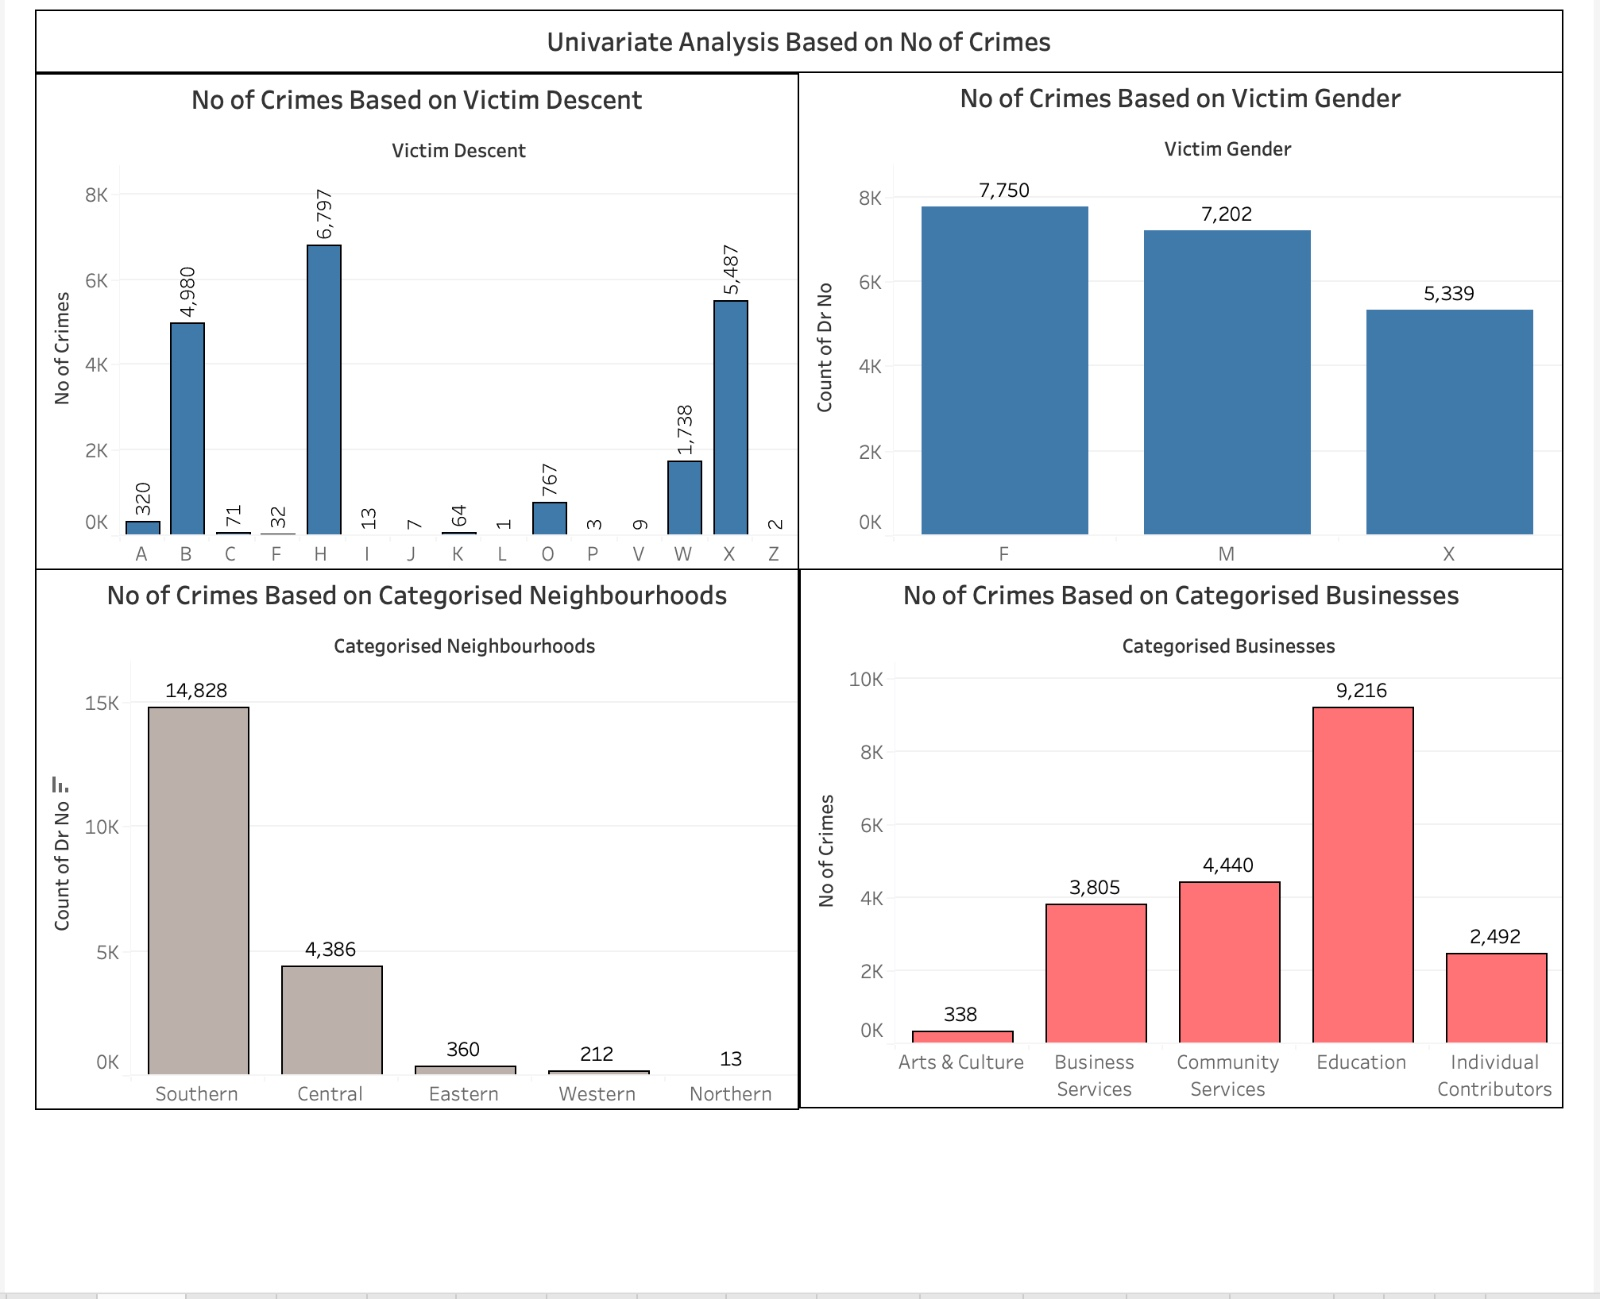

Layout of this report page (visuals, bound fields, positions):
{"tool":"tableau","page":{"name":"DB1","canvas":[1000,1000],"ordinal":0},"visuals":[{"type":"title","box":[19,6,962,40]},{"type":"worksheet","title":"Sheet 2","mark":"Automatic","rows":["DR_NO"],"cols":["Vict Sex"],"box":[499,45,482,314]},{"type":"worksheet","title":"Sheet 1","mark":"Automatic","rows":["DR_NO"],"cols":["Vict Descent"],"box":[19,46,481,313]},{"type":"worksheet","title":"Sheet 3","mark":"Automatic","rows":["DR_NO"],"cols":["Categorised_Nhoods"],"box":[19,358,481,341]},{"type":"worksheet","title":"Sheet 4","mark":"Bar","rows":["DR_NO"],"cols":["Categorised_Businesses"],"box":[500,358,481,340]}]}

Visuals, with their boxes on the page's 1000x1000 design canvas (x1, y1, x2, y2). These are canvas units, not pixel positions in the 1600x1299 screenshot, which may show the page scaled, cropped or inside an application window:
title: (19, 6, 981, 46)
"Sheet 2" worksheet: (499, 45, 981, 359)
"Sheet 1" worksheet: (19, 46, 500, 359)
"Sheet 3" worksheet: (19, 358, 500, 699)
"Sheet 4" worksheet (Bar marks): (500, 358, 981, 698)
